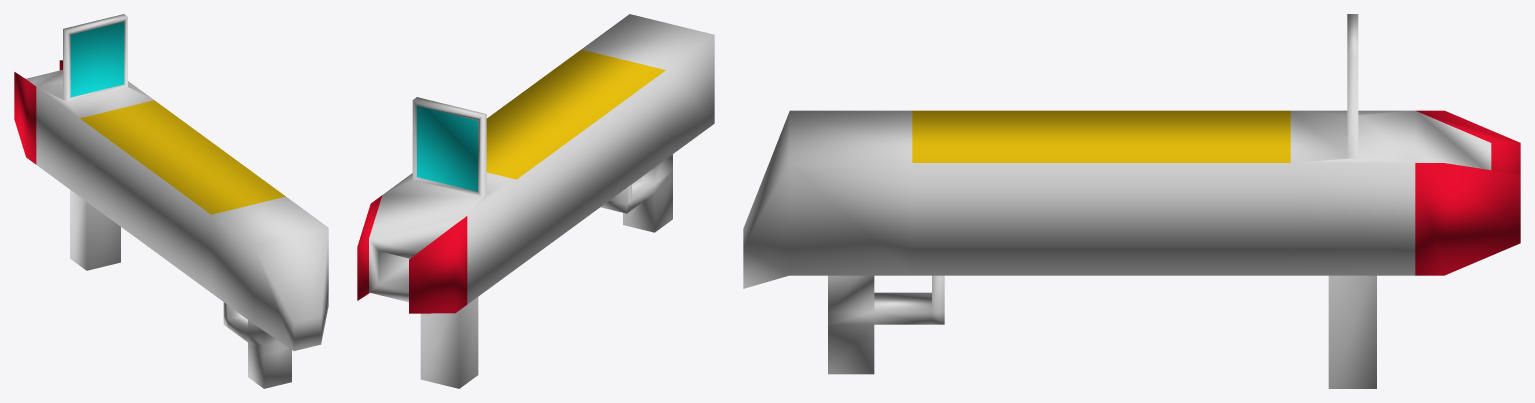
The model's file is Gun.fbx.
The picture shows the model from 3 angles, left to right: view 1: azimuth 30°, elevation 25°; view 2: azimuth 150°, elevation 25°; view 3: azimuth 270°, elevation 25°; orthographic projection. The views are drawn at different scales.
Parts seen in each view (by area): view 1: Cube; view 2: Cube; view 3: Cube.
Boxes of the visible parts, x1,y1,x2,y2 form: Cube: (14,14,328,388); Cube: (357,14,714,388); Cube: (743,14,1520,388).
Size of the model in its own units: 102 by 310 by 639.
